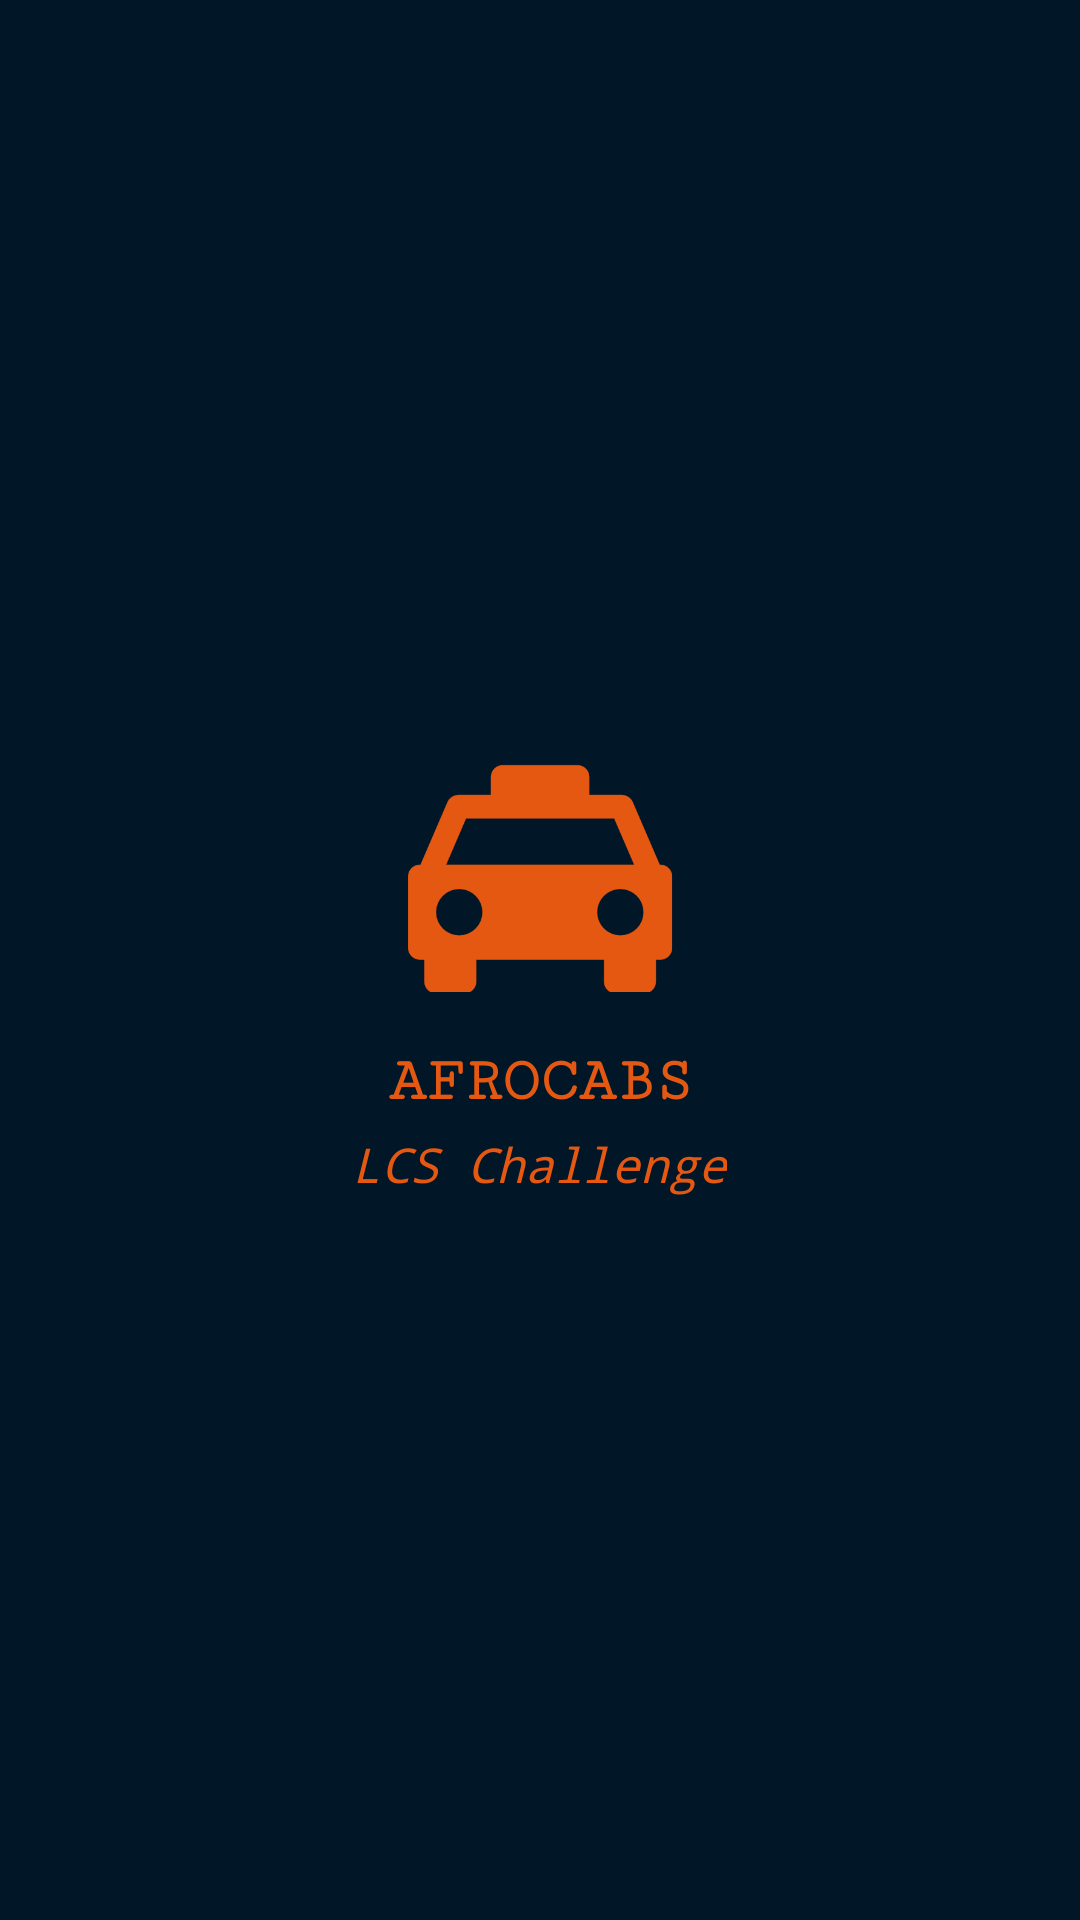

Screen size 1080px×1920px. Icon name, then its box in pixels as (x1, y1, x2, y2):
mytaxi: (408, 765, 672, 992)
